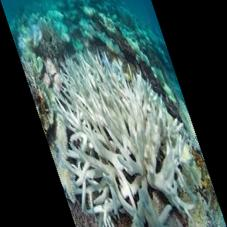bleached_corals: (24, 22, 226, 227)
